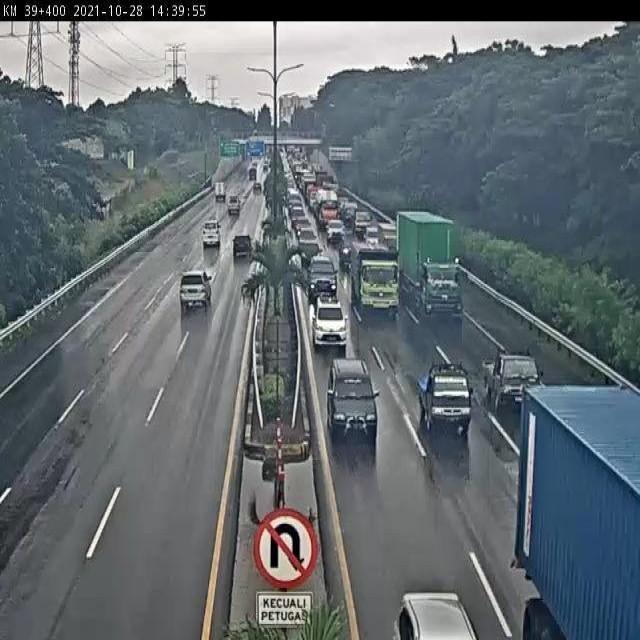big truck: (395, 212, 464, 319), (350, 240, 398, 313)
car: (325, 361, 376, 436), (417, 358, 471, 426), (482, 347, 539, 405), (310, 296, 346, 343), (177, 270, 211, 306), (307, 255, 336, 293), (299, 236, 323, 264), (377, 220, 398, 251), (200, 220, 222, 249), (338, 232, 357, 263), (350, 208, 372, 233), (231, 233, 252, 259), (326, 216, 345, 241), (226, 192, 241, 216), (362, 224, 381, 241)
